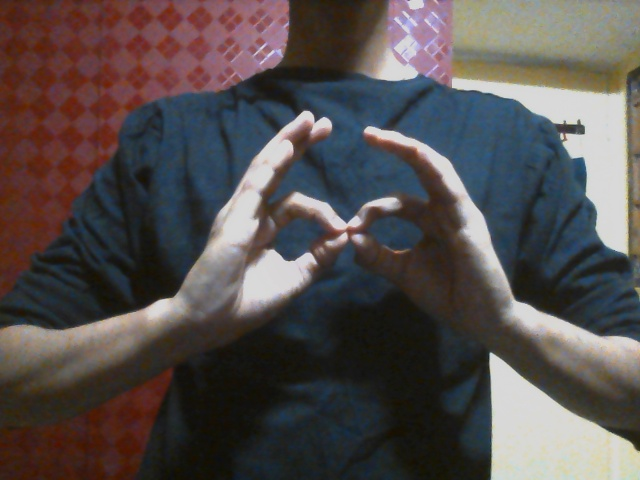B: (176, 109, 509, 370)
